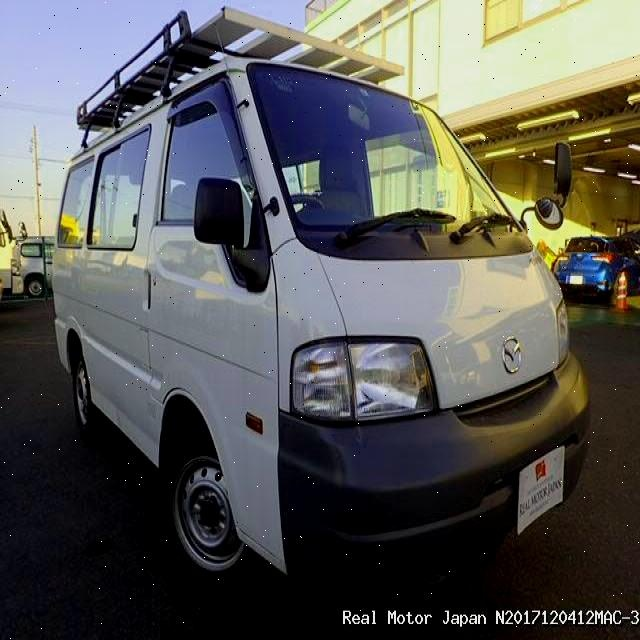Van: (48, 45, 592, 560)
